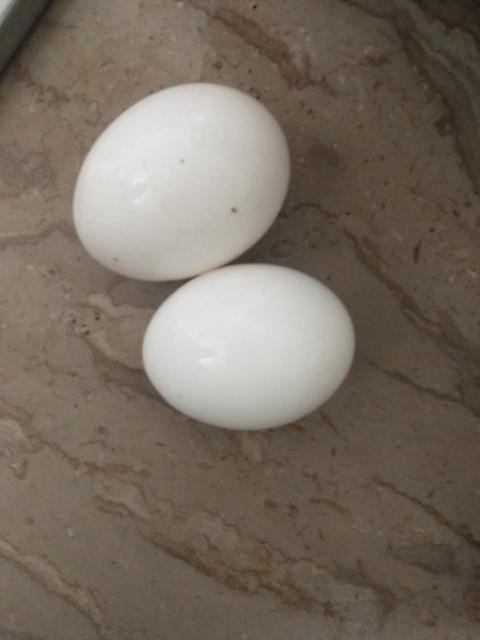Sano: (74, 85, 293, 280), (141, 263, 354, 431)
